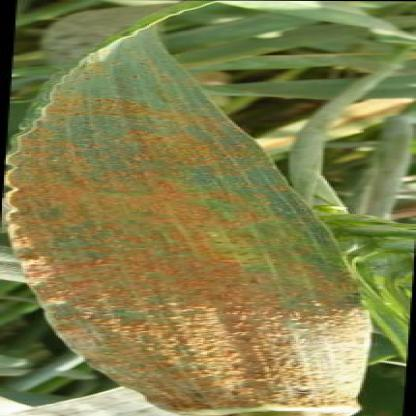Wheat Brown-rust: (102, 82, 204, 372), (231, 164, 321, 398), (41, 99, 78, 300), (131, 378, 228, 396), (76, 83, 82, 84)
